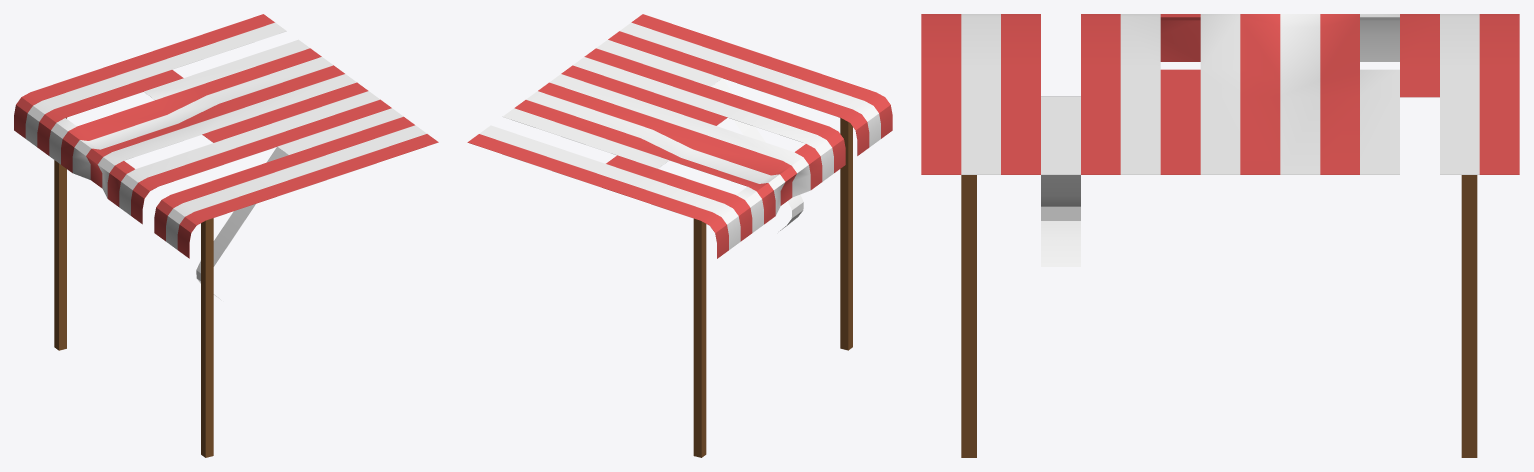
File: 09 Cafe_Blinds.FBX
3 views of the same model, side by side, from view 1: azimuth 30°, elevation 25°; view 2: azimuth 150°, elevation 25°; view 3: azimuth 270°, elevation 25° (orthographic). The views are drawn at different scales.
Parts seen in each view (by area): view 1: Cafe_Blinds; view 2: Cafe_Blinds; view 3: Cafe_Blinds.
Part boxes in pixels (<box>): Cafe_Blinds: <box>14,14,438,457</box>; Cafe_Blinds: <box>467,14,892,457</box>; Cafe_Blinds: <box>921,14,1519,457</box>.
Size of the model in its own units: 1569 by 1624 by 1909.
